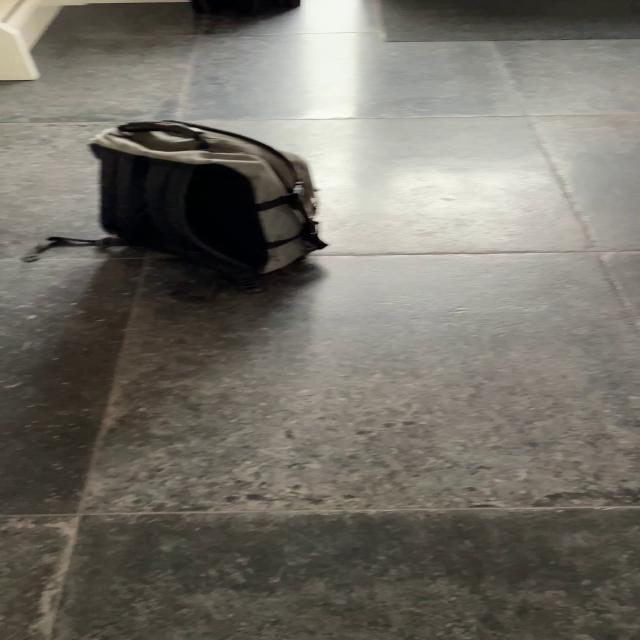backpack: (81, 114, 338, 294)
